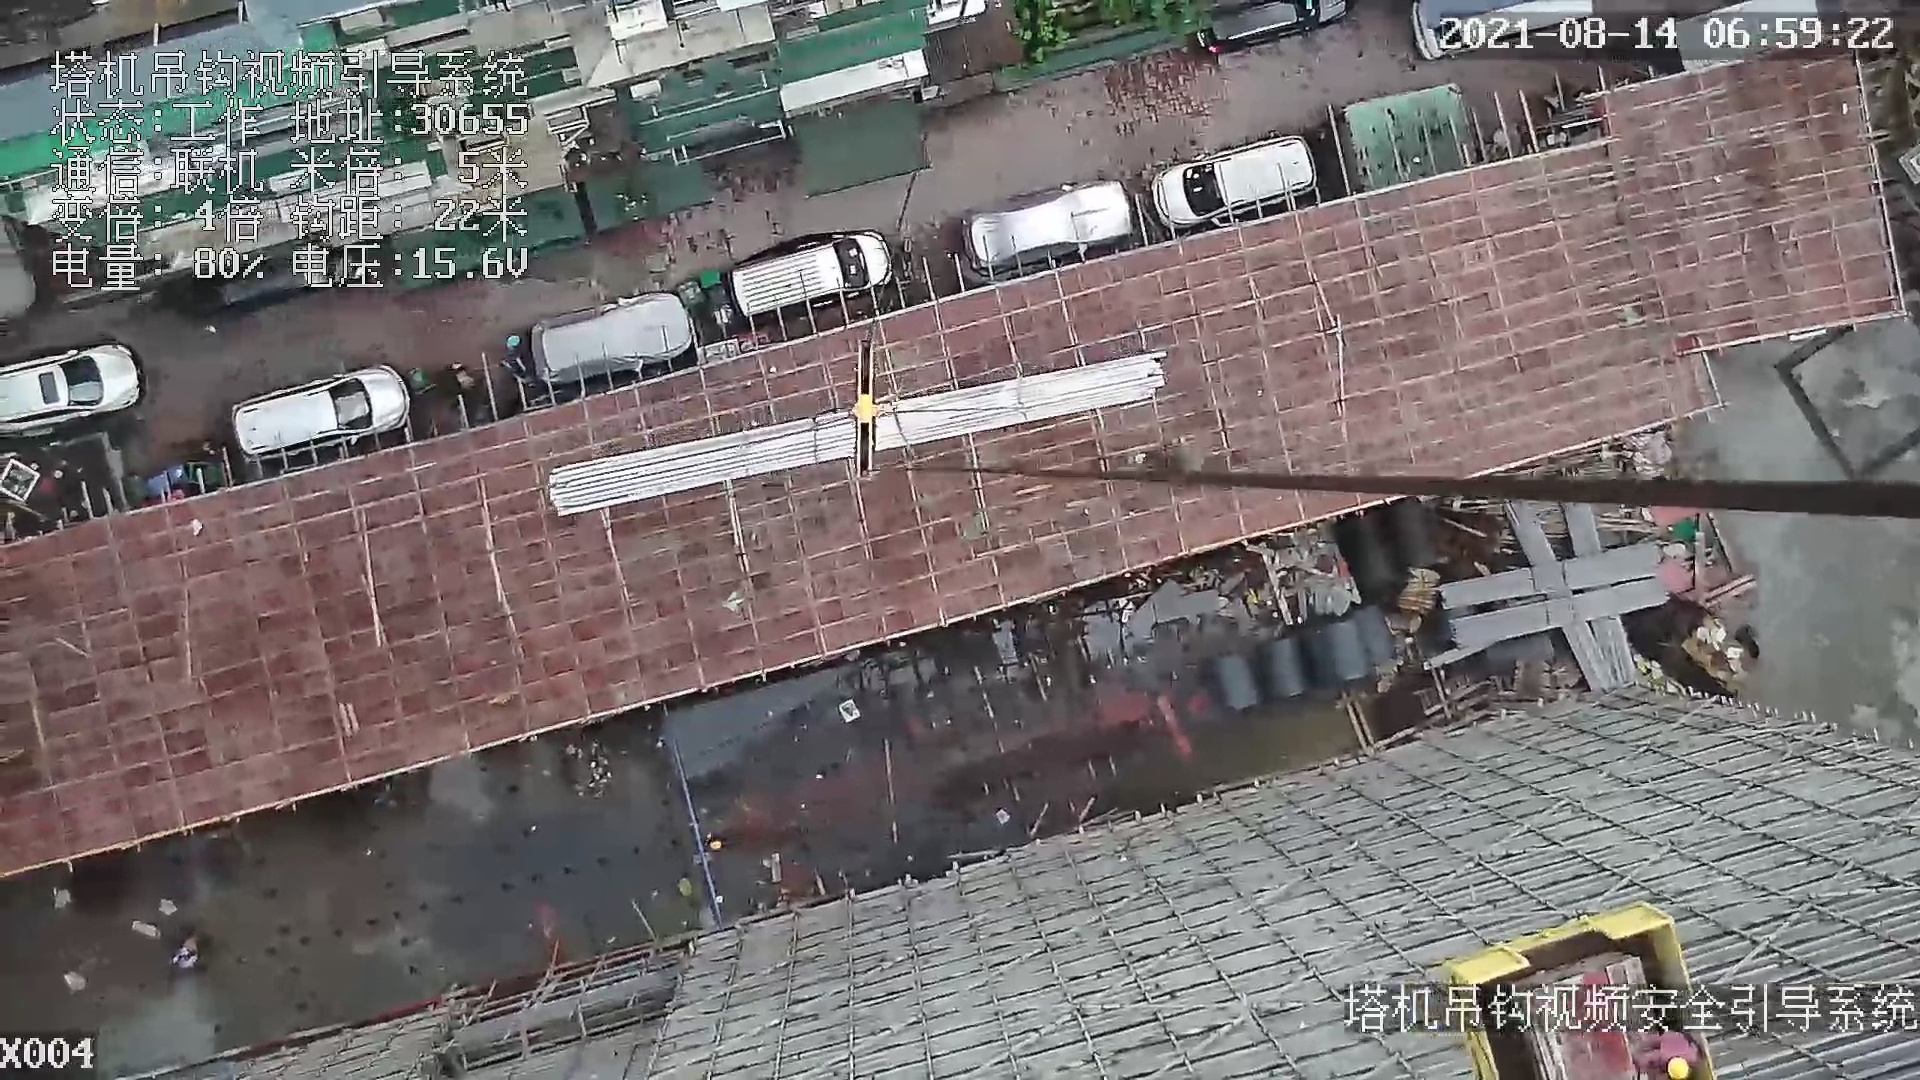hook: (855, 338, 895, 480)
rebar: (550, 351, 1163, 516), (1505, 502, 1613, 688), (1452, 578, 1665, 651), (1439, 543, 1664, 611), (1564, 501, 1639, 687)
wood: (1398, 567, 1439, 615)
